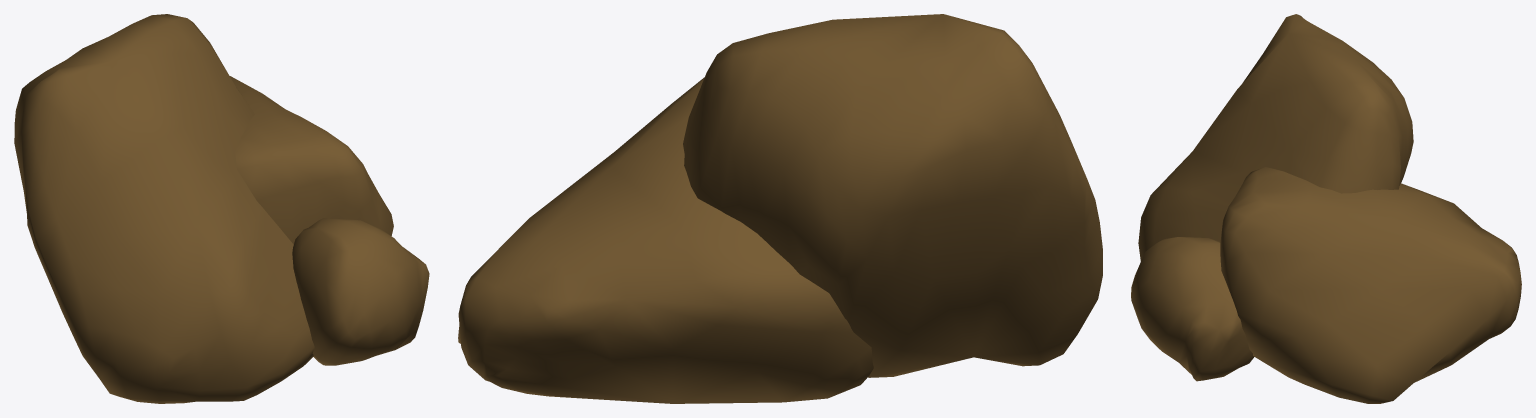
Rendered from Boulder.fbx.
3 views of the same model, side by side, from view 1: azimuth 30°, elevation 25°; view 2: azimuth 150°, elevation 25°; view 3: azimuth 270°, elevation 25° (orthographic). The views are drawn at different scales.
Visible parts, largest first — view 1: Pedregulho; view 2: Pedregulho; view 3: Pedregulho.
Part boxes in pixels (x1,y1,x2,y2): Pedregulho: [14, 14, 429, 403]; Pedregulho: [458, 14, 1102, 403]; Pedregulho: [1131, 14, 1521, 403].
Bounding box in the file's own units: 171 × 120 × 168.
